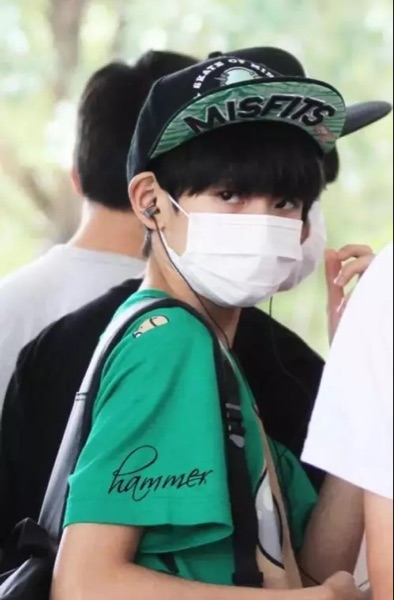face_mask: (177, 181, 303, 308)
